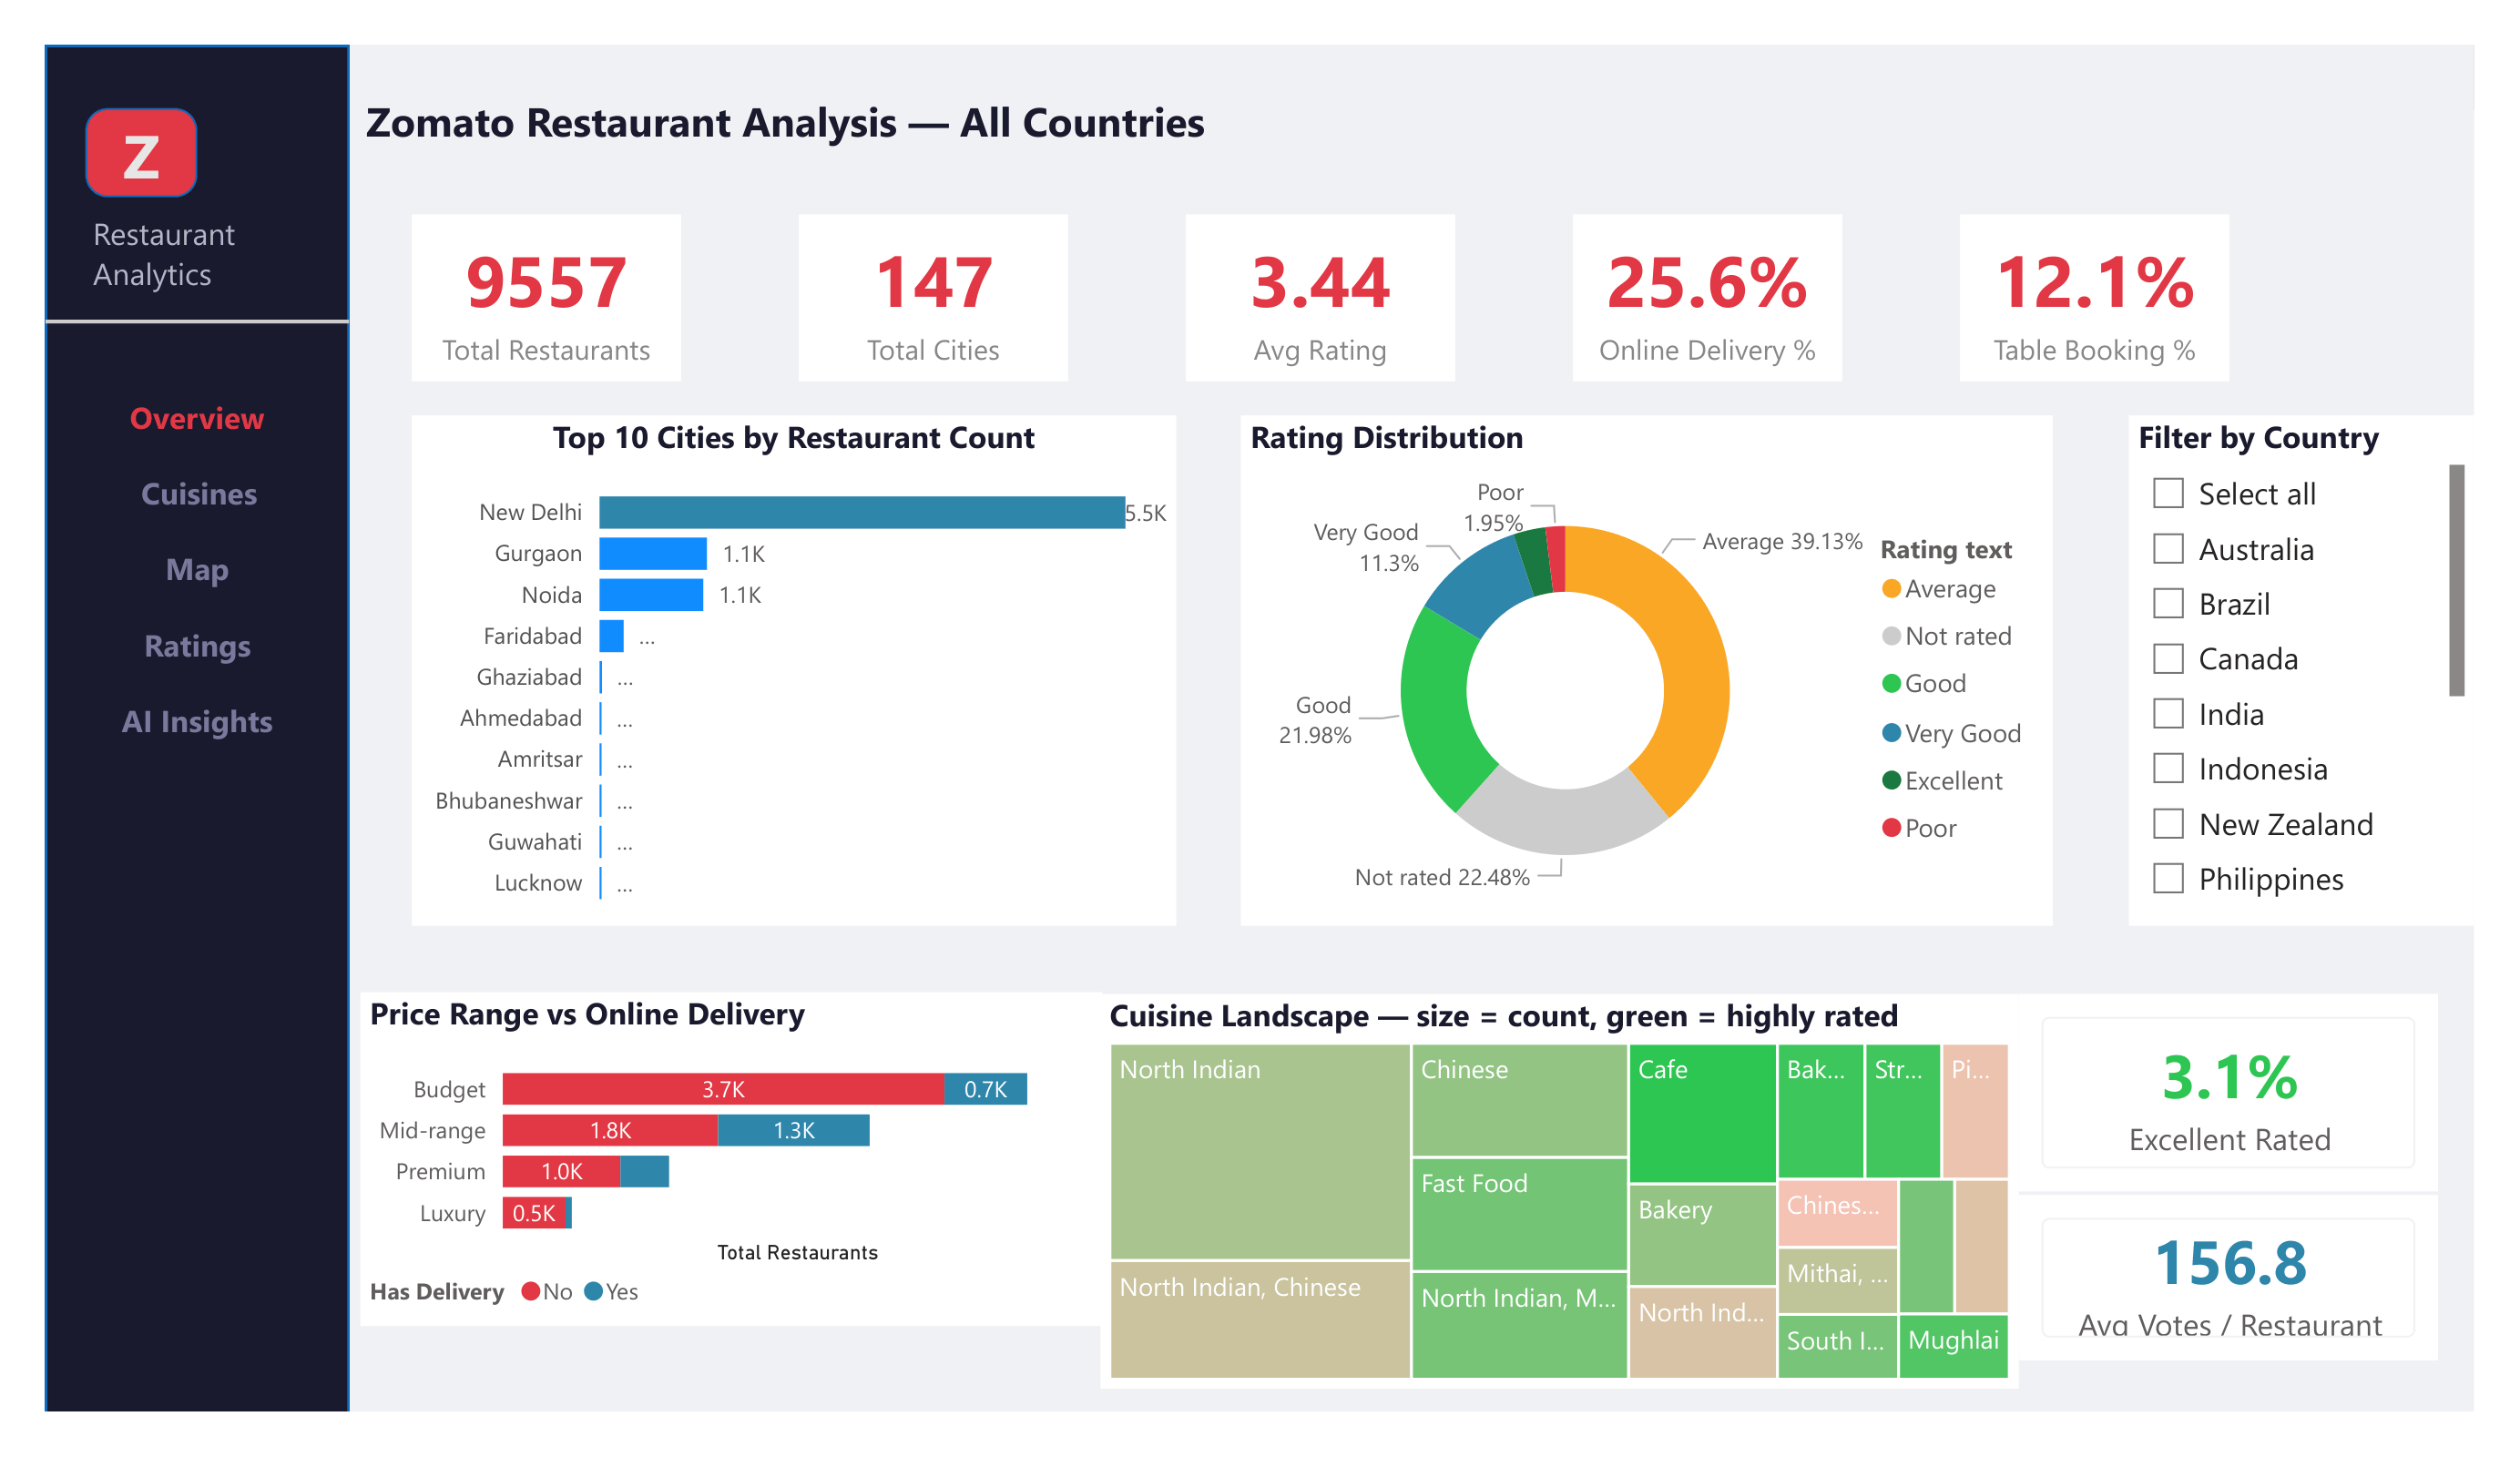

The page's visual inventory and layout, read from the dashboard file:
{"tool":"powerbi","page":{"name":"Overview","canvas":[1280,720],"ordinal":0},"visuals":[{"type":"shape","box":[0,0,159.8,720.6],"z":0},{"type":"card","fields":{"Values":["_Measures.Total Restaurants"]},"box":[192.6,89.1,142.1,87.9],"z":0,"group":"g1"},{"type":"cardVisual","fields":{"Data":["_Measures.Excellent %"]},"box":[1040.3,499.7,221.2,104.2],"z":0,"group":"g2"},{"type":"shape","box":[21.4,32.8,58.5,47.1],"z":1000},{"type":"card","fields":{"Values":["_Measures.Total Cities"]},"box":[396.7,89.1,142.1,87.9],"z":1000,"group":"g1"},{"type":"cardVisual","fields":{"Data":["_Measures.Avg Votes per Restaurant"]},"box":[1040.3,605.3,221.2,87],"z":1000,"group":"g2"},{"type":"textbox","box":[20,30,61.4,52.8],"z":2000},{"type":"card","fields":{"Values":["_Measures.Avg Rating"]},"box":[600.8,89.1,142.1,87.9],"z":2000,"group":"g1"},{"type":"textbox","box":[20,82.8,105.6,74.2],"z":3000},{"type":"card","fields":{"Values":["_Measures.Online Delivery %"]},"box":[804.8,89.1,142.1,87.9],"z":3000,"group":"g1"},{"type":"card","fields":{"Values":["_Measures.Table Booking %"]},"box":[1008.9,89.1,142.1,87.9],"z":4000,"group":"g1"},{"type":"actionButton","box":[0,175.5,159.8,40],"z":4000},{"type":"actionButton","box":[1.4,215.5,159.8,40],"z":5000},{"type":"actionButton","box":[0,255.4,159.8,40],"z":6000},{"type":"actionButton","box":[0,295.4,159.8,40],"z":7000},{"type":"actionButton","box":[0,335.3,159.8,40],"z":8000},{"type":"shape","box":[0,134.1,159.8,22.8],"z":9000},{"type":"card","fields":{"Values":["_Measures.Page Title"]},"box":[161.2,0,458.1,82.8],"z":10000},{"type":"clusteredBarChart","title":"Top 10 Cities by Restaurant Count","fields":{"Category":["Restaurants.City"],"Y":["_Measures.Total Restaurants"]},"box":[192.6,195.5,403.8,268.3],"z":11000},{"type":"group","id":"g1","title":"Group 1","box":[192.6,89.1,958.4,87.9],"z":12000},{"type":"donutChart","title":"Rating Distribution","fields":{"Category":["Restaurants.Rating text"],"Y":["_Measures.Total Restaurants"]},"box":[629.7,195.1,428.6,268.5],"z":13000},{"type":"slicer","title":"Filter by Country","fields":{"Values":["Country lookup.Country"]},"box":[1098.1,195.1,181.8,268.5],"z":14000},{"type":"barChart","title":"Price Range vs Online Delivery","fields":{"Category":["Restaurants.Price Label"],"Y":["_Measures.Total Restaurants"],"Series":["Restaurants.Online delivery"]},"box":[166,499.3,391,175.8],"z":15000},{"type":"treemap","title":"Cuisine Landscape — size = count, green = highly rated","fields":{"Group":["Restaurants.Cuisines"],"Values":["_Measures.Total Restaurants"]},"box":[556.3,499.7,484,208.3],"z":16000},{"type":"group","id":"g2","title":"Group 2","box":[1040.3,499.7,220.3,192.6],"z":17000}]}

Visuals, with their boxes on the page's 1280x720 design canvas (x1, y1, x2, y2). These are canvas units, not pixel positions in the 2520x1457 screenshot, which may show the page scaled, cropped or inside an application window:
shape: [x1=0, y1=0, x2=160, y2=721]
card - _Measures.Total Restaurants: [x1=193, y1=89, x2=335, y2=177]
cardVisual - _Measures.Excellent %: [x1=1040, y1=500, x2=1262, y2=604]
shape: [x1=21, y1=33, x2=80, y2=80]
card - _Measures.Total Cities: [x1=397, y1=89, x2=539, y2=177]
cardVisual - _Measures.Avg Votes per Restaurant: [x1=1040, y1=605, x2=1262, y2=692]
textbox: [x1=20, y1=30, x2=81, y2=83]
card - _Measures.Avg Rating: [x1=601, y1=89, x2=743, y2=177]
textbox: [x1=20, y1=83, x2=126, y2=157]
card - _Measures.Online Delivery %: [x1=805, y1=89, x2=947, y2=177]
card - _Measures.Table Booking %: [x1=1009, y1=89, x2=1151, y2=177]
actionButton: [x1=0, y1=176, x2=160, y2=216]
actionButton: [x1=1, y1=216, x2=161, y2=256]
actionButton: [x1=0, y1=255, x2=160, y2=295]
actionButton: [x1=0, y1=295, x2=160, y2=335]
actionButton: [x1=0, y1=335, x2=160, y2=375]
shape: [x1=0, y1=134, x2=160, y2=157]
card - _Measures.Page Title: [x1=161, y1=0, x2=619, y2=83]
"Top 10 Cities by Restaurant Count" clusteredBarChart: [x1=193, y1=196, x2=596, y2=464]
"Group 1" group: [x1=193, y1=89, x2=1151, y2=177]
"Rating Distribution" donutChart: [x1=630, y1=195, x2=1058, y2=464]
"Filter by Country" slicer: [x1=1098, y1=195, x2=1280, y2=464]
"Price Range vs Online Delivery" barChart: [x1=166, y1=499, x2=557, y2=675]
"Cuisine Landscape — size = count, green = highly rated" treemap: [x1=556, y1=500, x2=1040, y2=708]
"Group 2" group: [x1=1040, y1=500, x2=1261, y2=692]
